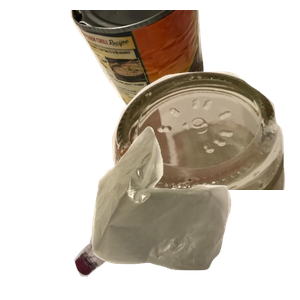glass: (89, 69, 300, 249)
metal: (68, 10, 265, 131)
plastic: (72, 142, 273, 300)
trash: (89, 124, 300, 300)
